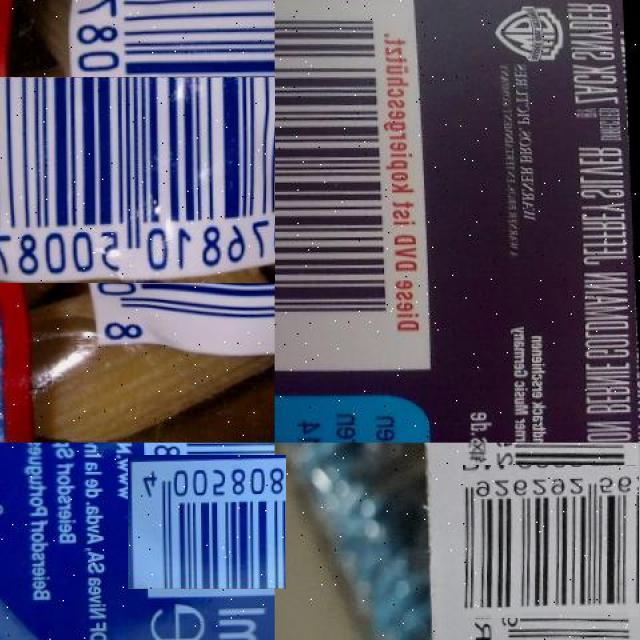Barcode: (31, 38, 313, 321), (275, 0, 432, 375), (474, 454, 640, 630), (134, 449, 281, 595)
